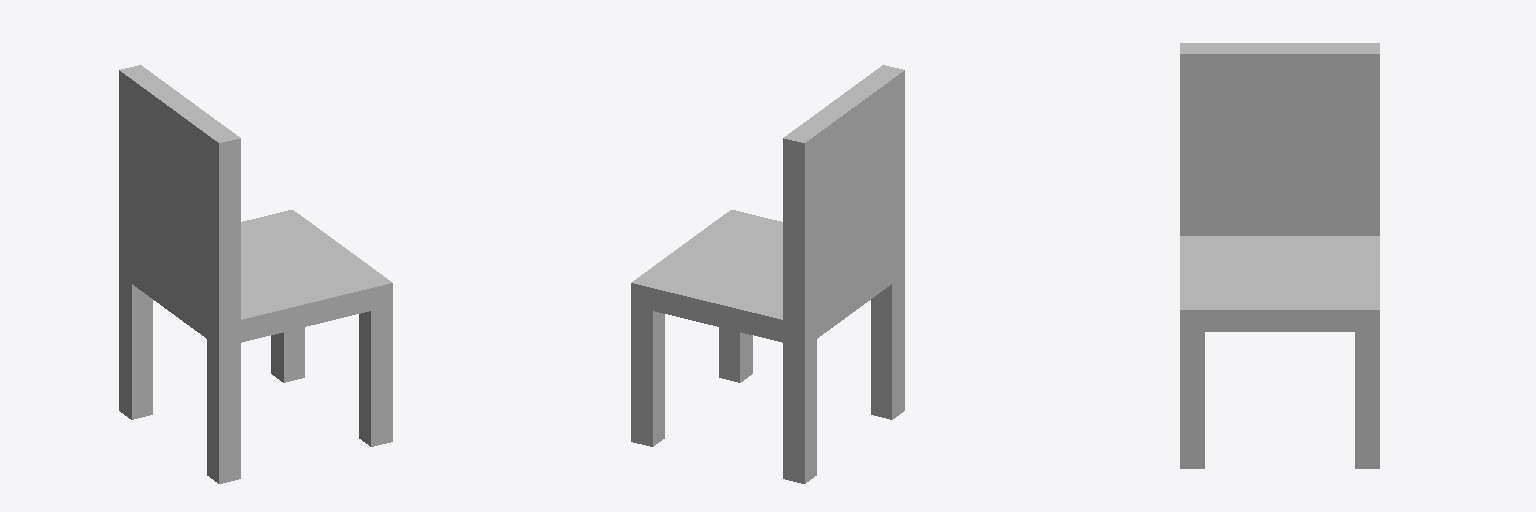
The model's file is chair.obj.
3 renders of one model, left to right at view 1: azimuth 30°, elevation 25°; view 2: azimuth 150°, elevation 25°; view 3: azimuth 270°, elevation 25°, orthographic.
Parts seen in each view (by area): view 1: object 1; view 2: object 1; view 3: object 1.
Boxes of the visible parts, x1,y1,x2,y2 form: object 1: [119, 65, 392, 483]; object 1: [631, 65, 904, 483]; object 1: [1180, 43, 1379, 468].
Bounding box in the file's own units: 0.8 × 1.5 × 0.8.